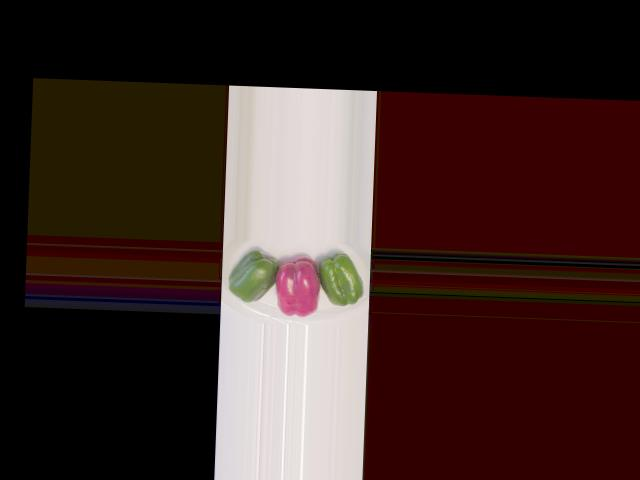bell_pepper: (224, 244, 279, 309)
